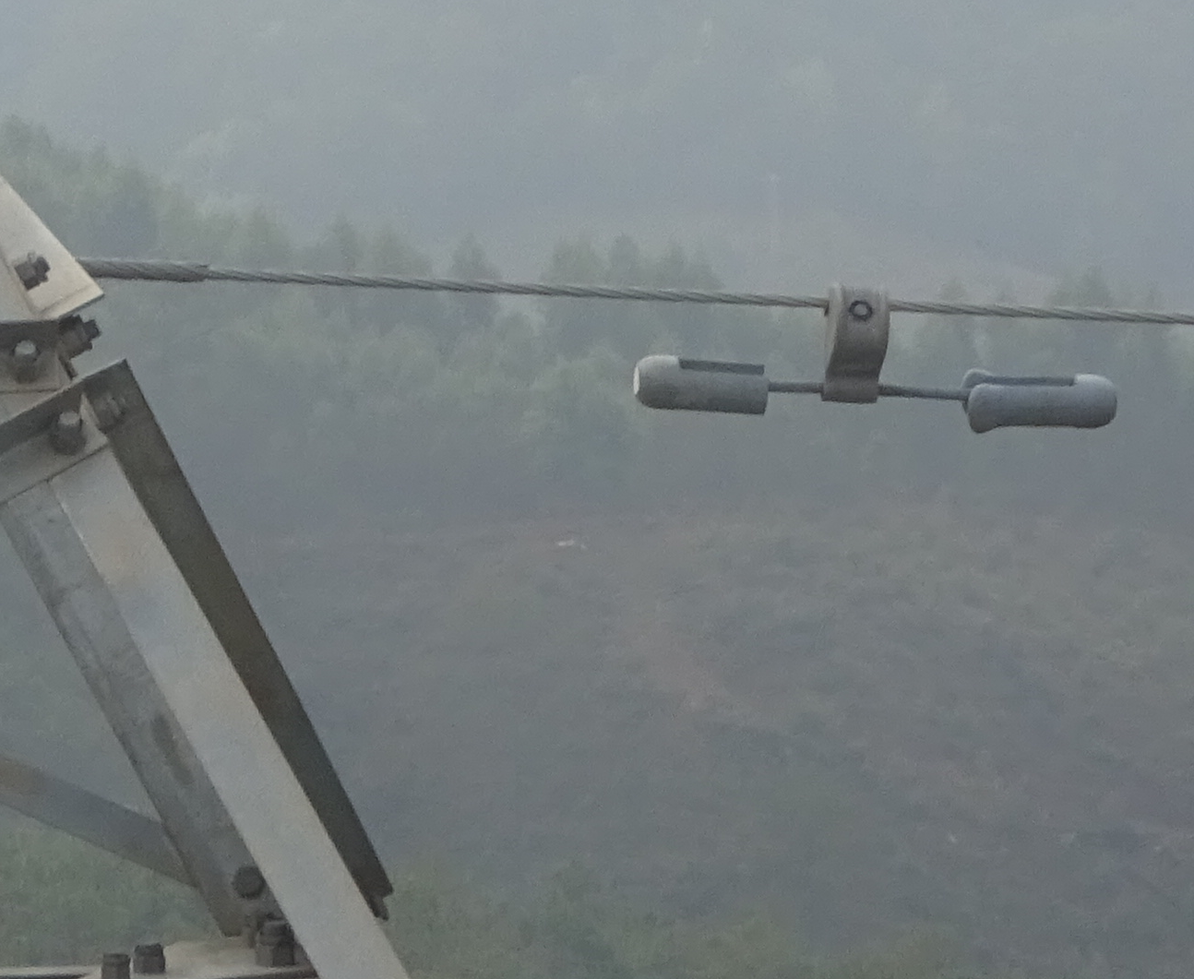damper: (624, 276, 1119, 431)
